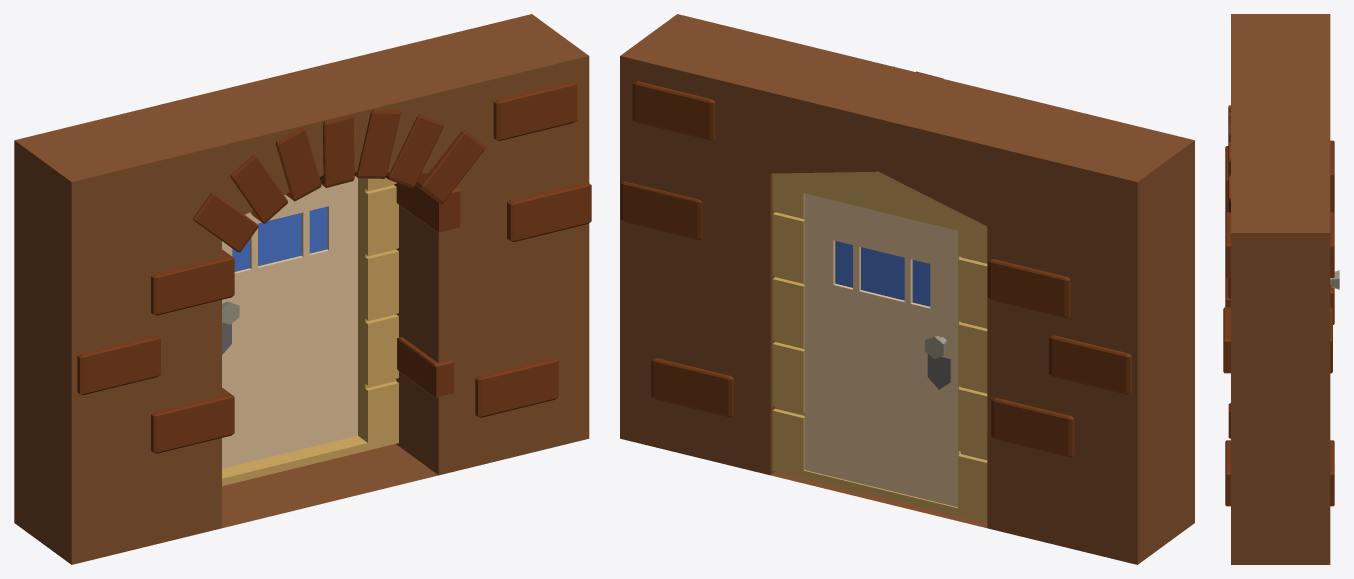
Rendered from Door02_house5.fbx.
3 renders of one model, left to right at view 1: azimuth 30°, elevation 25°; view 2: azimuth 150°, elevation 25°; view 3: azimuth 270°, elevation 25°, orthographic. The views are drawn at different scales.
Visible parts, largest first — view 1: Door02_house5; view 2: Door02_house5; view 3: Door02_house5.
Part boxes in pixels (x1,y1,x2,y2): Door02_house5: [14, 14, 591, 564]; Door02_house5: [620, 14, 1194, 564]; Door02_house5: [1223, 14, 1339, 564].
Size of the model in its own units: 489 by 346 by 110.
